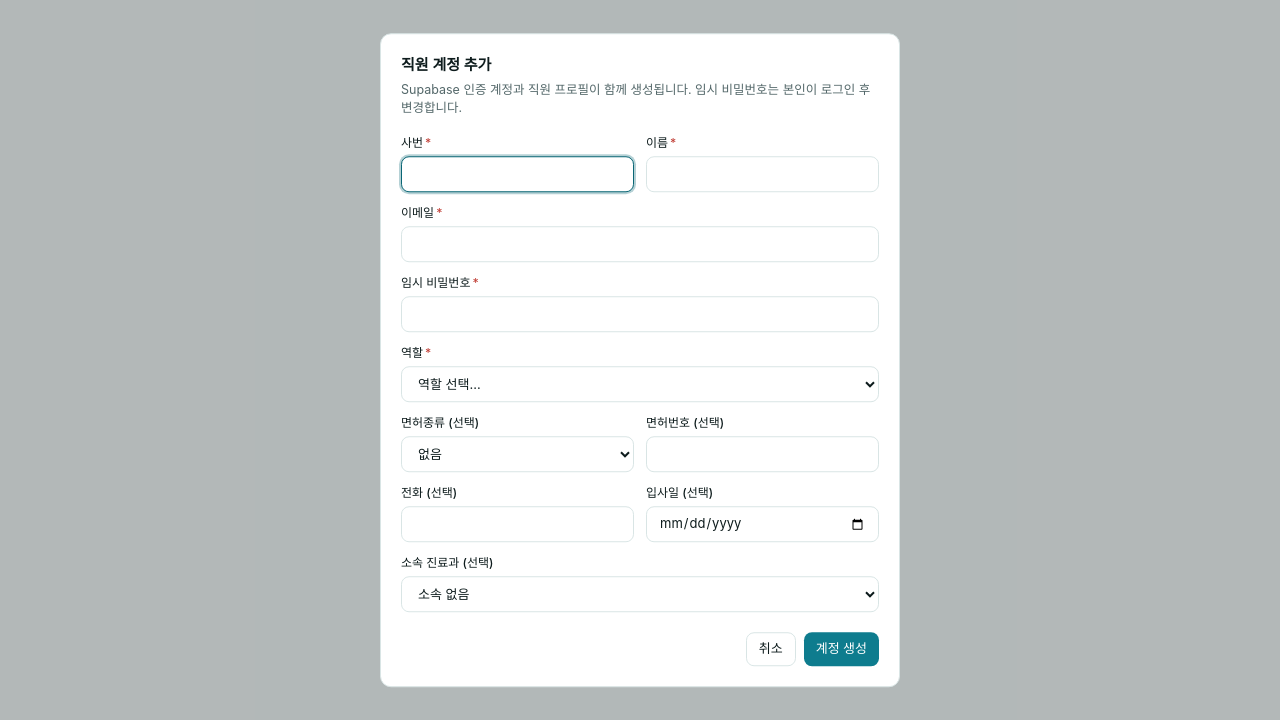
it: StaffCreateForm › 사번 중복(409) → 사번 필드 인라인 오류
Type "EMP9001" into the field labelled "사번*" at (518, 174), box [401,156,634,192]
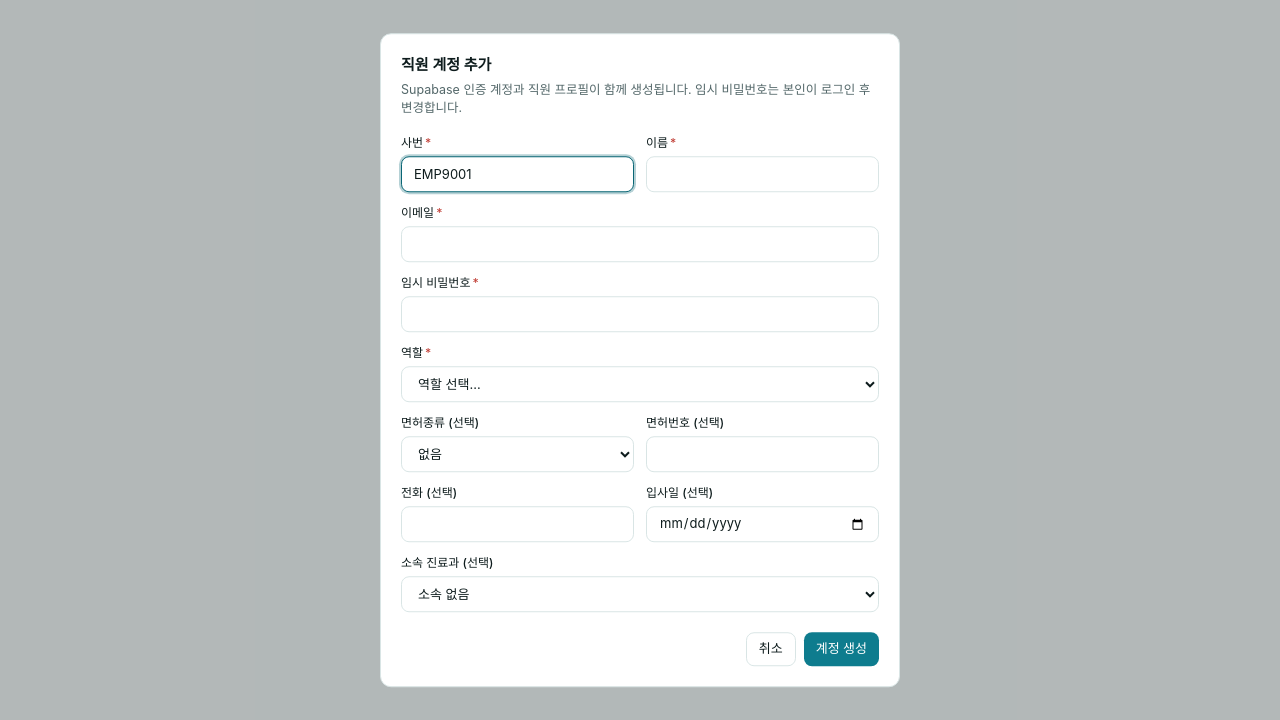
Type "간호사1" into the field labelled "이름*" at (762, 174), box [646,156,879,192]
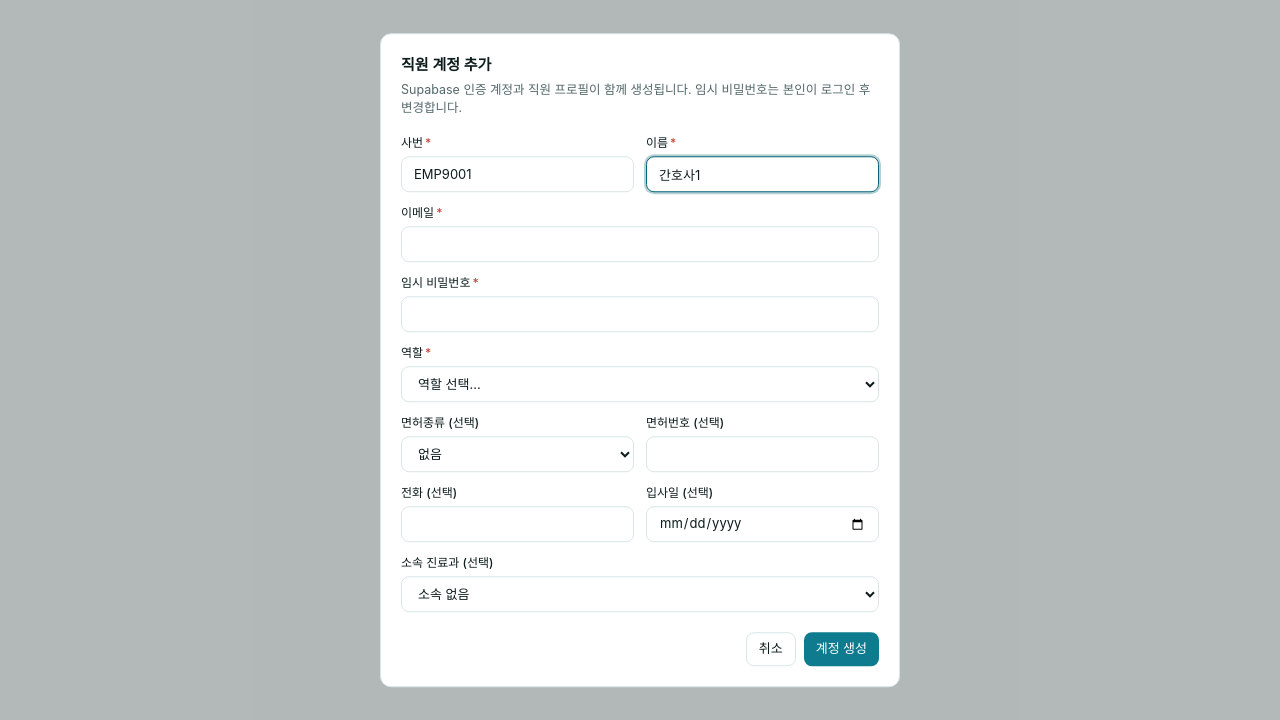
Type "nurse1@pms.local" into the field labelled "이메일*" at (640, 244), box [401,226,879,262]
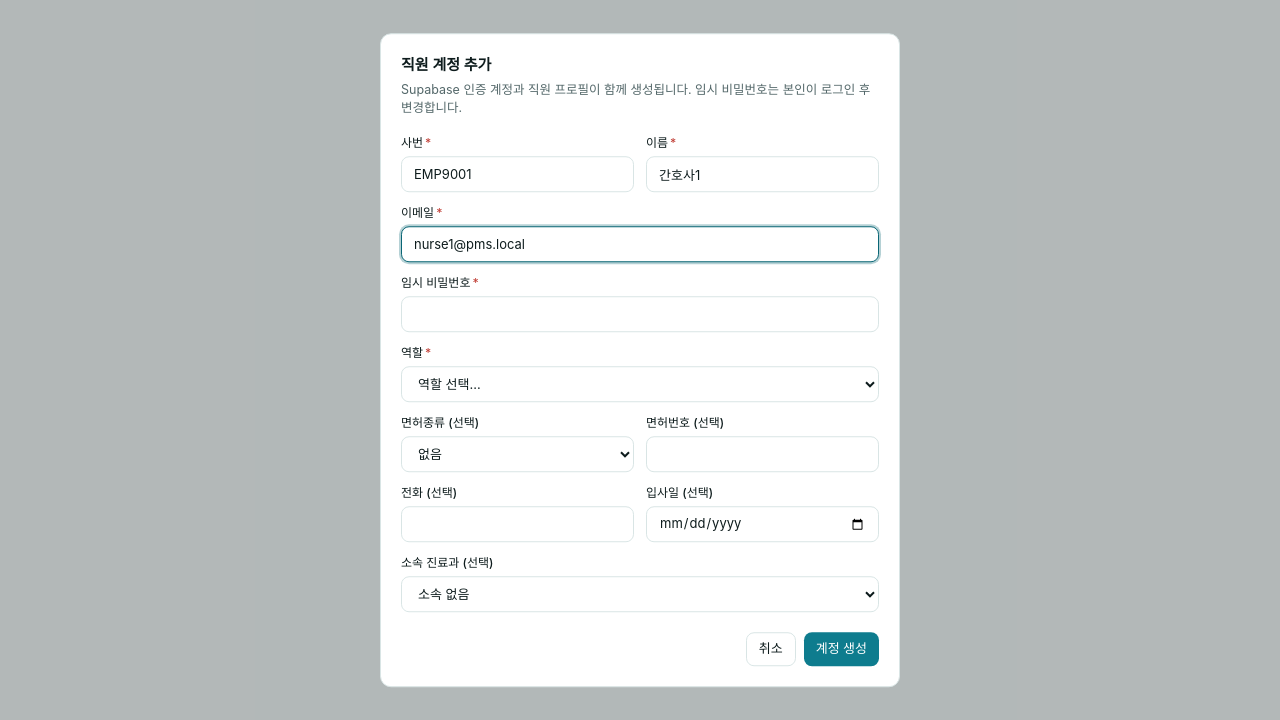
Type "Staff1234" into the password field labelled "임시 비밀번호*" at (640, 314), box [401,296,879,332]
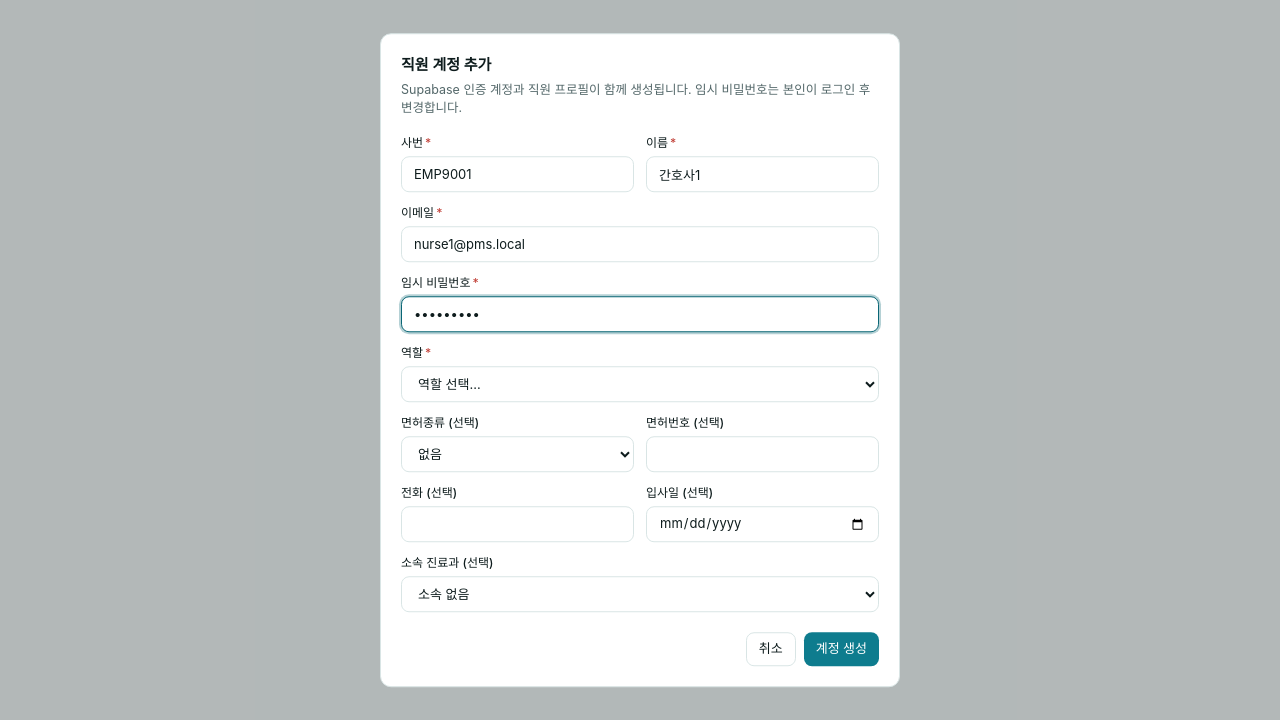
Select "간호사" in the dropdown labelled "역할*" at (640, 384), box [401,366,879,402]
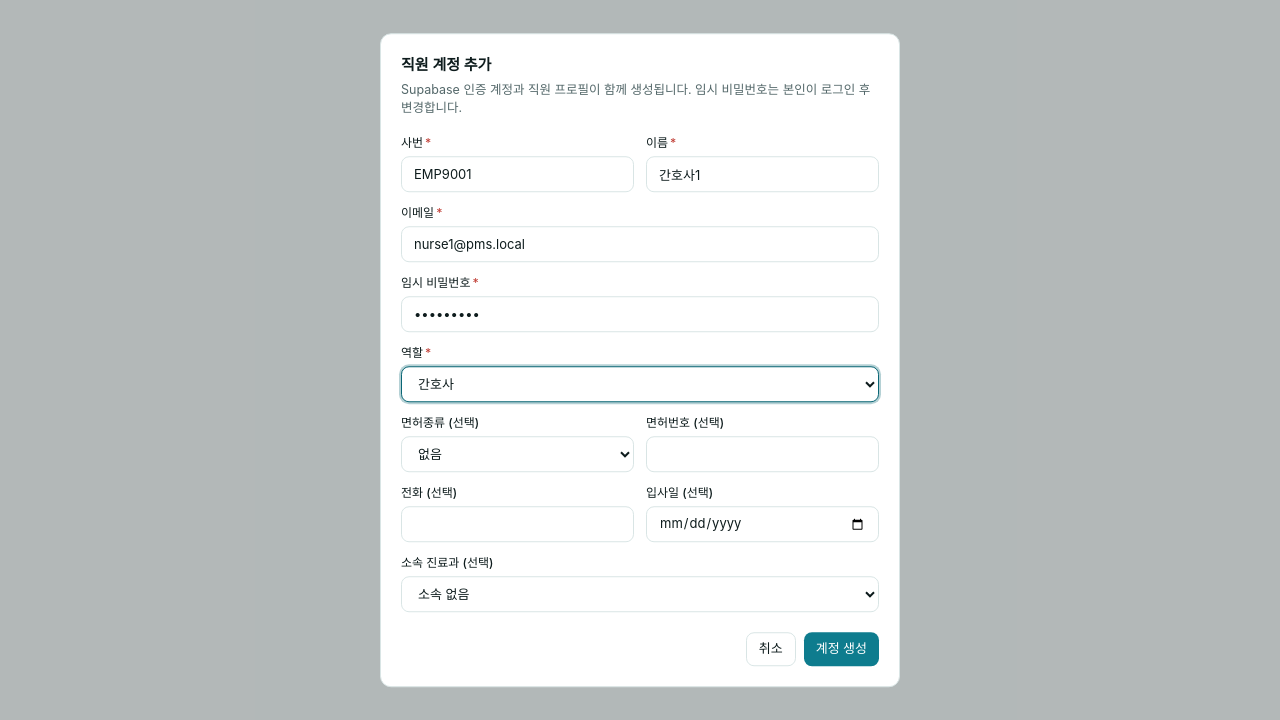
Click the button "계정 생성" at (841, 649), box [804,632,879,666]
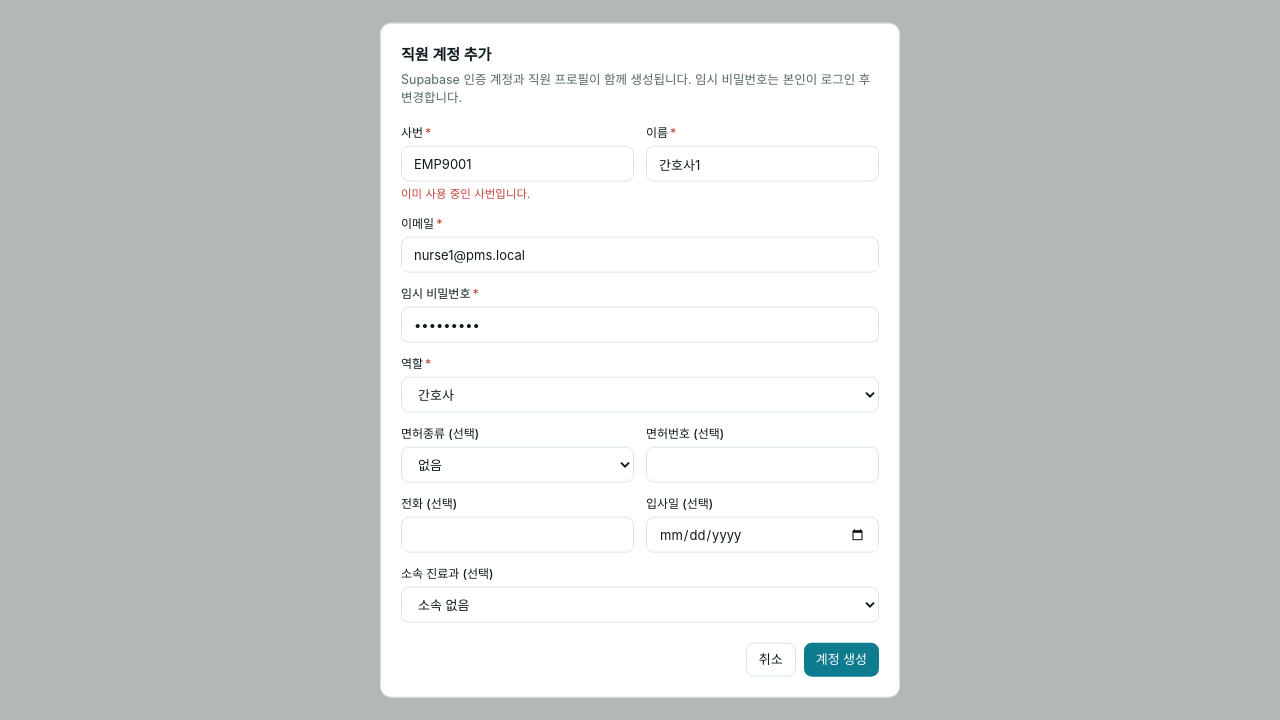
Expected: the text "이미 사용 중인 사번입니다." is shown, [401,187,530,201]
